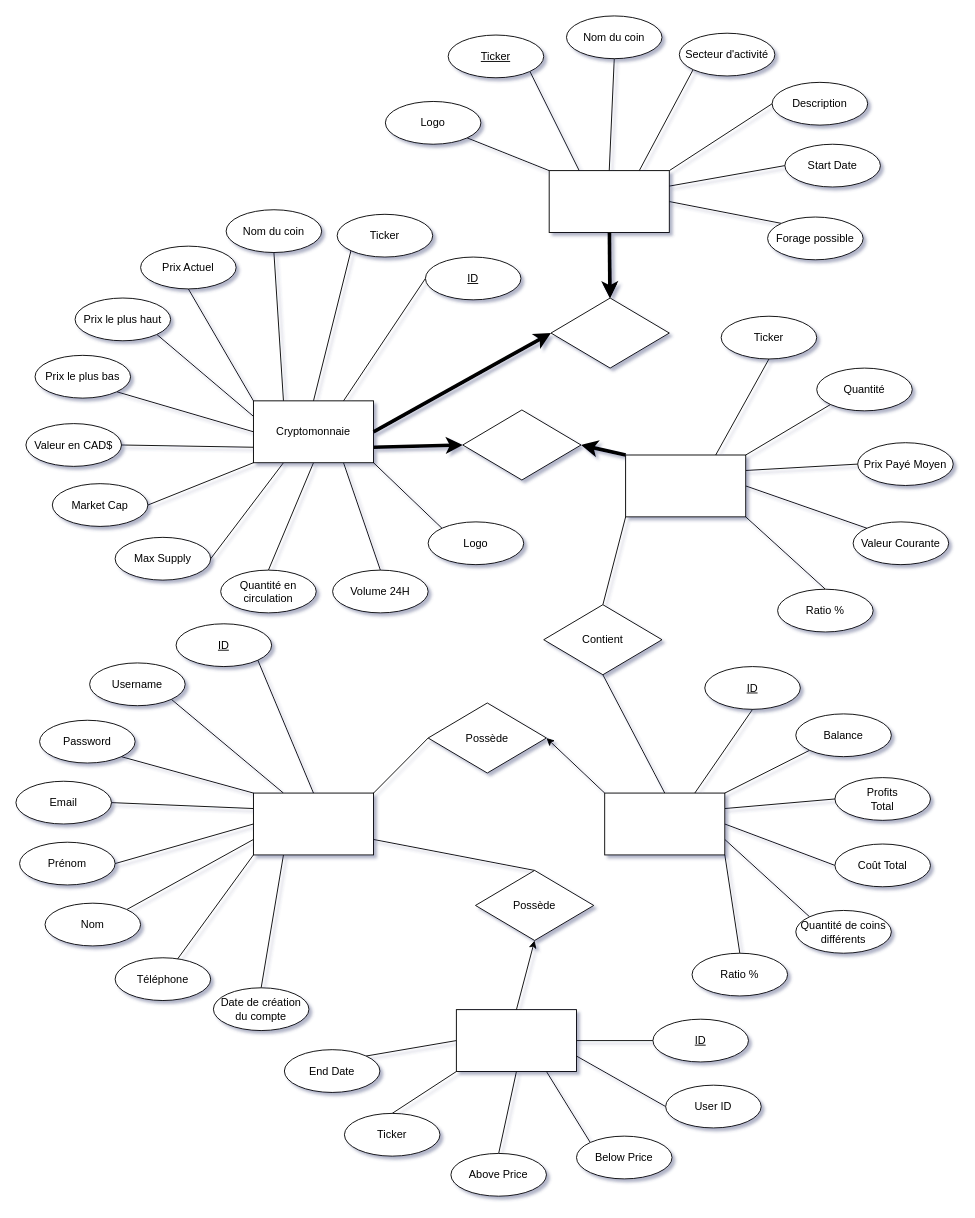
This 975x1218 diagram has some shape labels left out. The box of each missing label's shape, as (x1, y1, x2, y2) in pixels:
Alertes: (455, 1009, 576, 1072)
Est: (462, 409, 581, 480)
Finance: (550, 297, 669, 368)
Portfolio: (604, 792, 725, 855)
Projet: (548, 170, 669, 233)
Titre: (625, 454, 746, 517)
Utilisateur: (253, 792, 374, 855)
